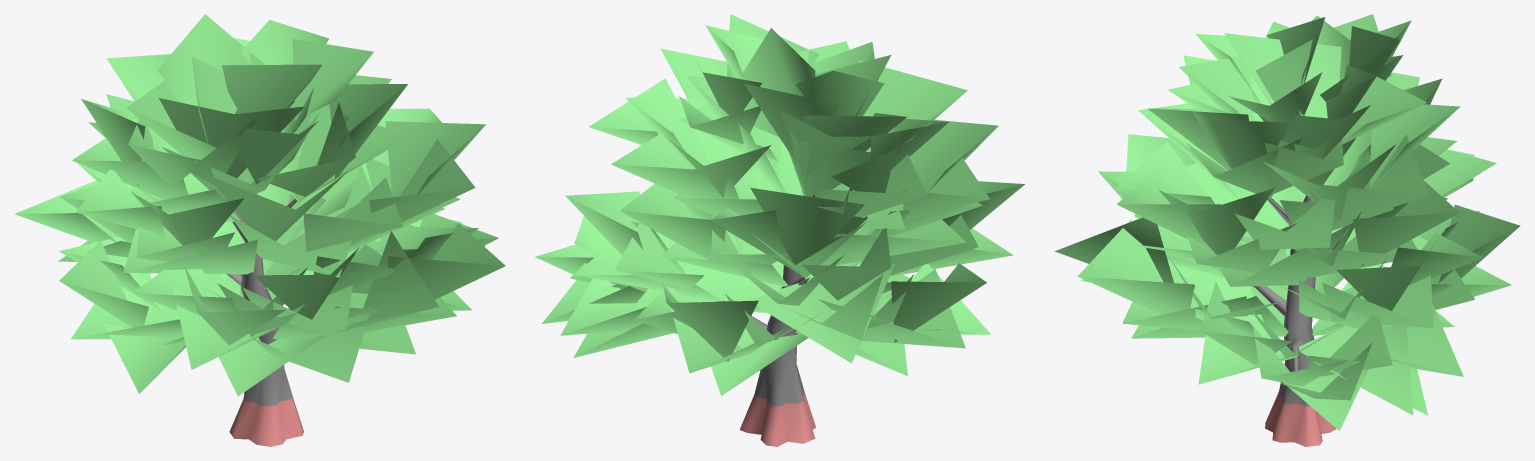
File: Oren_tree_S__Oren_Darkelf_tree01.gltf
The picture shows the model from 3 angles, left to right: view 1: azimuth 30°, elevation 25°; view 2: azimuth 150°, elevation 25°; view 3: azimuth 270°, elevation 25°; orthographic projection.
Parts seen in each view (by area): view 1: Oren_Darkelf_tree01; view 2: Oren_Darkelf_tree01; view 3: Oren_Darkelf_tree01.
Part boxes in pixels (bbox=[...]): Oren_Darkelf_tree01: bbox=[14, 14, 505, 446]; Oren_Darkelf_tree01: bbox=[535, 14, 1024, 446]; Oren_Darkelf_tree01: bbox=[1055, 14, 1520, 446].
Size of the model in its own units: 9.79 by 8.42 by 9.27.
